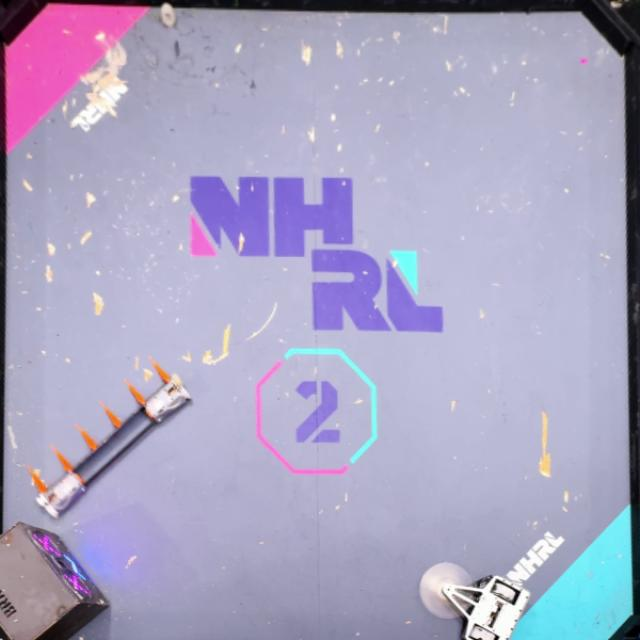housebot: (0, 520, 112, 640)
robot: (22, 362, 192, 520), (420, 561, 531, 640)
